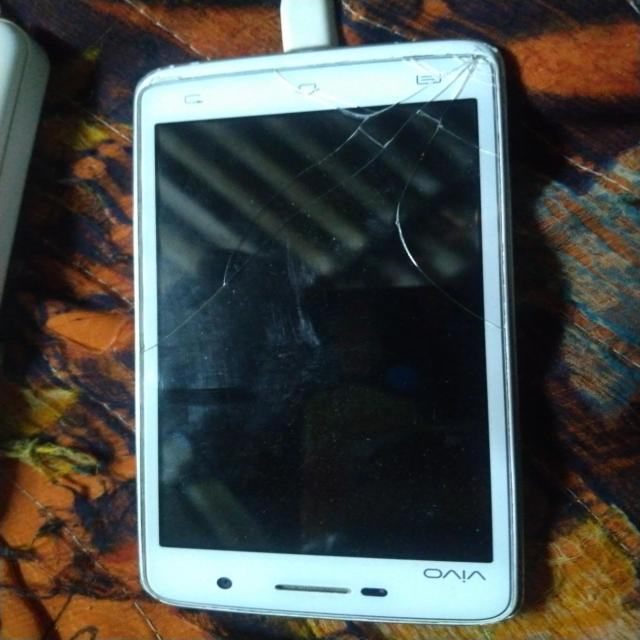phone: (109, 31, 578, 633)
